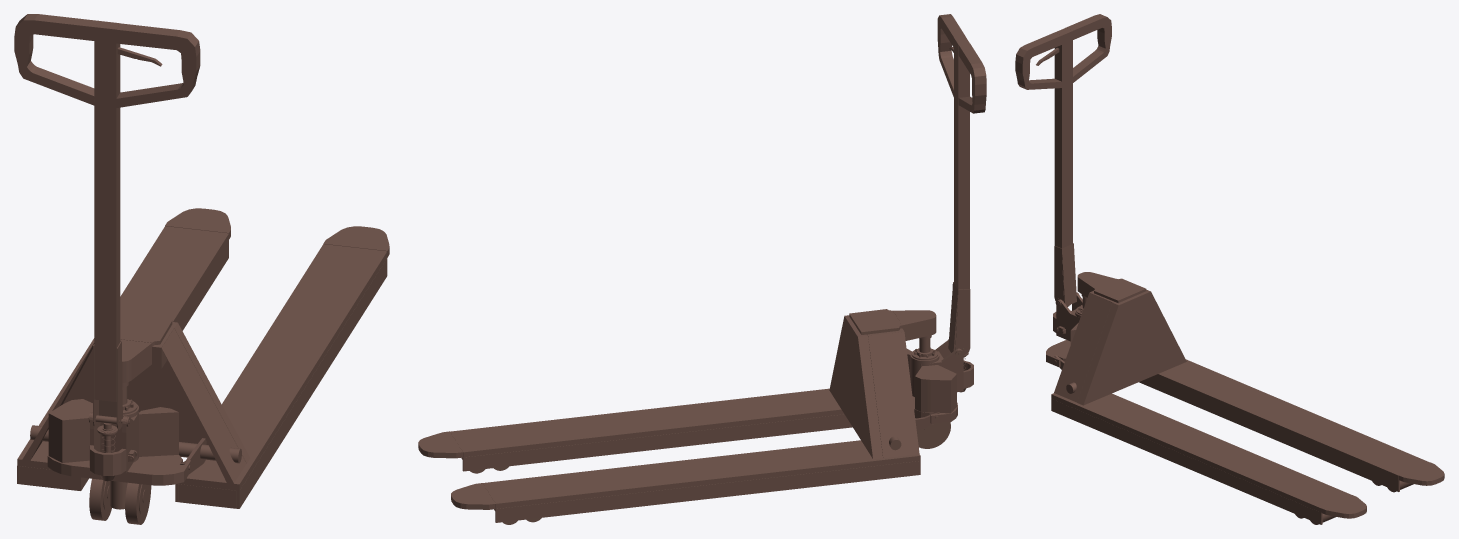
File: GCC-AAV-13220-30.nwd(7).fbx
3 renders of one model, left to right at view 1: azimuth 30°, elevation 25°; view 2: azimuth 150°, elevation 25°; view 3: azimuth 270°, elevation 25°, orthographic. The views are drawn at different scales.
Visible parts, largest first — view 1: BOX 3 of EQUIPMENT /701-ME-052, BOX 43 of EQUIPMENT /701-ME-052, BOX 6 of EQUIPMENT /701-ME-052, EXTRUSION 7 of EQUIPMENT /701-ME-052, EXTRUSION 9 of EQUIPMENT /701-ME-052, EXTRUSION 27 of EQUIPMENT /701-ME-052, EXTRUSION 26 of EQUIPMENT /701-ME-052, BOX 1 of EQUIPMENT /701-ME-052, EXTRUSION 12 of EQUIPMENT /701-ME-052, EXTRUSION 13 of EQUIPMENT /701-ME-052, EXTRUSION 14 of EQUIPMENT /701-ME-052, EXTRUSION 11 of EQUIPMENT /701-ME-052 (+14 smaller); view 2: BOX 6 of EQUIPMENT /701-ME-052, BOX 3 of EQUIPMENT /701-ME-052, BOX 7 of EQUIPMENT /701-ME-052, BOX 2 of EQUIPMENT /701-ME-052, EXTRUSION 8 of EQUIPMENT /701-ME-052, EXTRUSION 7 of EQUIPMENT /701-ME-052, BOX 43 of EQUIPMENT /701-ME-052, EXTRUSION 13 of EQUIPMENT /701-ME-052, EXTRUSION 27 of EQUIPMENT /701-ME-052, EXTRUSION 26 of EQUIPMENT /701-ME-052, EXTRUSION 11 of EQUIPMENT /701-ME-052, EXTRUSION 10 of EQUIPMENT /701-ME-052 (+3 smaller); view 3: BOX 3 of EQUIPMENT /701-ME-052, BOX 6 of EQUIPMENT /701-ME-052, EXTRUSION 7 of EQUIPMENT /701-ME-052, BOX 43 of EQUIPMENT /701-ME-052, BOX 1 of EQUIPMENT /701-ME-052, BOX 5 of EQUIPMENT /701-ME-052, EXTRUSION 9 of EQUIPMENT /701-ME-052, EXTRUSION 27 of EQUIPMENT /701-ME-052, EXTRUSION 26 of EQUIPMENT /701-ME-052, EXTRUSION 11 of EQUIPMENT /701-ME-052, EXTRUSION 25 of EQUIPMENT /701-ME-052, EXTRUSION 2 of EQUIPMENT /701-ME-052 (+4 smaller).
Part boxes in pixels (left/top/right/bottom): BOX 3 of EQUIPMENT /701-ME-052: left=177, top=244, right=387, bottom=490; BOX 43 of EQUIPMENT /701-ME-052: left=94, top=20, right=120, bottom=401; BOX 6 of EQUIPMENT /701-ME-052: left=17, top=226, right=228, bottom=469; EXTRUSION 7 of EQUIPMENT /701-ME-052: left=63, top=322, right=249, bottom=463; EXTRUSION 9 of EQUIPMENT /701-ME-052: left=162, top=328, right=246, bottom=485; EXTRUSION 27 of EQUIPMENT /701-ME-052: left=14, top=14, right=97, bottom=105; EXTRUSION 26 of EQUIPMENT /701-ME-052: left=116, top=23, right=200, bottom=107; BOX 1 of EQUIPMENT /701-ME-052: left=237, top=258, right=387, bottom=508; EXTRUSION 12 of EQUIPMENT /701-ME-052: left=47, top=455, right=191, bottom=485; EXTRUSION 13 of EQUIPMENT /701-ME-052: left=48, top=399, right=92, bottom=462; EXTRUSION 14 of EQUIPMENT /701-ME-052: left=139, top=407, right=178, bottom=456; EXTRUSION 11 of EQUIPMENT /701-ME-052: left=120, top=314, right=172, bottom=346; BOX 6 of EQUIPMENT /701-ME-052: left=483, top=440, right=920, bottom=508; BOX 3 of EQUIPMENT /701-ME-052: left=450, top=388, right=843, bottom=457; BOX 7 of EQUIPMENT /701-ME-052: left=495, top=461, right=920, bottom=522; BOX 2 of EQUIPMENT /701-ME-052: left=462, top=414, right=852, bottom=471; EXTRUSION 8 of EQUIPMENT /701-ME-052: left=868, top=332, right=919, bottom=457; EXTRUSION 7 of EQUIPMENT /701-ME-052: left=829, top=315, right=882, bottom=459; BOX 43 of EQUIPMENT /701-ME-052: left=954, top=36, right=969, bottom=289; EXTRUSION 13 of EQUIPMENT /701-ME-052: left=915, top=365, right=956, bottom=413; EXTRUSION 27 of EQUIPMENT /701-ME-052: left=958, top=43, right=986, bottom=113; EXTRUSION 26 of EQUIPMENT /701-ME-052: left=937, top=14, right=965, bottom=96; EXTRUSION 11 of EQUIPMENT /701-ME-052: left=849, top=309, right=902, bottom=334; EXTRUSION 10 of EQUIPMENT /701-ME-052: left=893, top=310, right=936, bottom=340; BOX 3 of EQUIPMENT /701-ME-052: left=1051, top=393, right=1351, bottom=512; BOX 6 of EQUIPMENT /701-ME-052: left=1153, top=359, right=1429, bottom=479; EXTRUSION 7 of EQUIPMENT /701-ME-052: left=1077, top=289, right=1186, bottom=405; BOX 43 of EQUIPMENT /701-ME-052: left=1054, top=28, right=1072, bottom=248; BOX 1 of EQUIPMENT /701-ME-052: left=1051, top=399, right=1322, bottom=524; BOX 5 of EQUIPMENT /701-ME-052: left=1139, top=376, right=1399, bottom=491; EXTRUSION 9 of EQUIPMENT /701-ME-052: left=1054, top=293, right=1112, bottom=402; EXTRUSION 27 of EQUIPMENT /701-ME-052: left=1065, top=14, right=1111, bottom=82; EXTRUSION 26 of EQUIPMENT /701-ME-052: left=1015, top=32, right=1061, bottom=89; EXTRUSION 11 of EQUIPMENT /701-ME-052: left=1094, top=278, right=1146, bottom=302; EXTRUSION 25 of EQUIPMENT /701-ME-052: left=1062, top=243, right=1076, bottom=305; EXTRUSION 2 of EQUIPMENT /701-ME-052: left=1399, top=462, right=1444, bottom=485.
Size of the model in its own units: 53.37 by 47.53 by 53.66.
